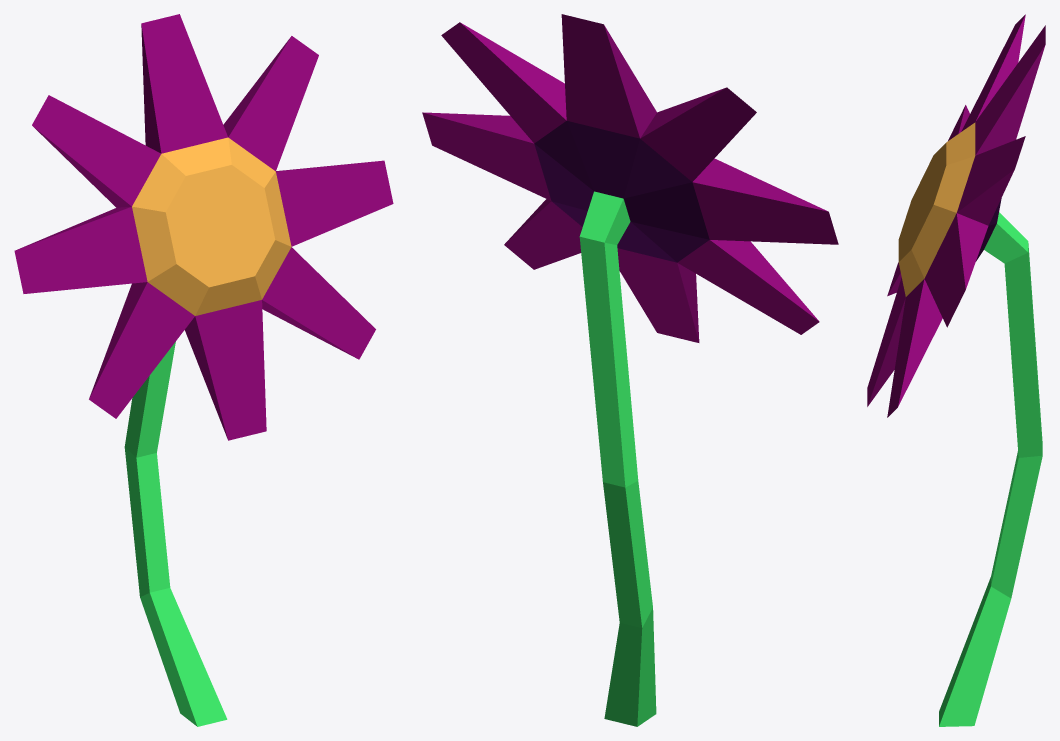
File: Flor_2.fbx
The picture shows the model from 3 angles, left to right: view 1: azimuth 30°, elevation 25°; view 2: azimuth 150°, elevation 25°; view 3: azimuth 270°, elevation 25°; orthographic projection. The views are drawn at different scales.
Visible parts, largest first — view 1: Flor_2; view 2: Flor_2; view 3: Flor_2.
Boxes of the visible parts, x1,y1,x2,y2 form: Flor_2: (14,14,393,726); Flor_2: (422,14,838,726); Flor_2: (867,14,1045,726).
Size of the model in its own units: 0.2676 by 0.4607 by 0.1088.
